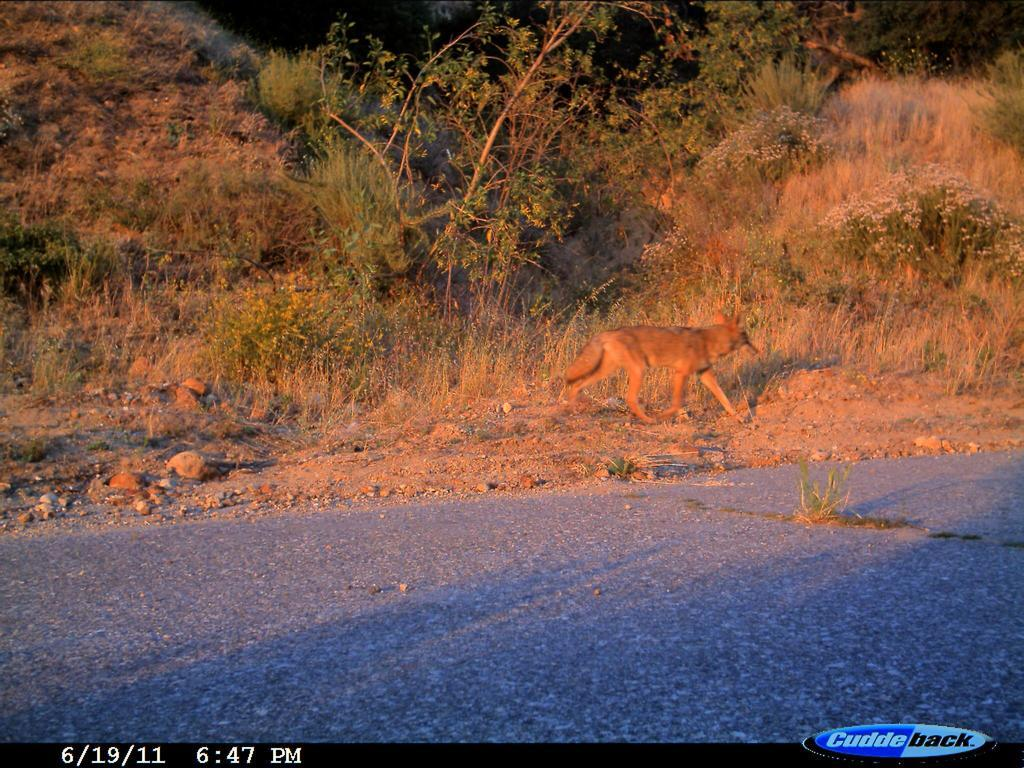coyote: (555, 299, 772, 432)
